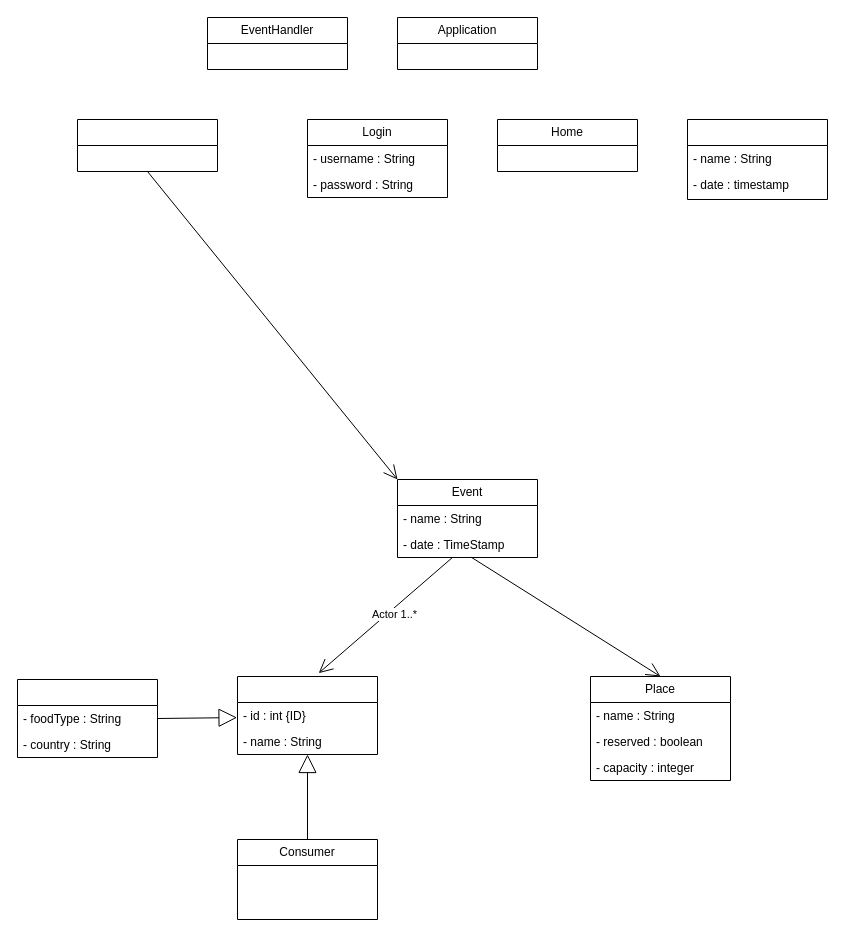
Some shapes in this 845 by 937 pixel diagram are drawn without their labels. The box of each missing label's shape, as (x1, y1, x2, y2) in pixels:
Actor: (236, 676, 378, 754)
Cooker: (16, 678, 158, 758)
EventCreation: (686, 118, 828, 200)
ViewEvent: (76, 118, 218, 172)
